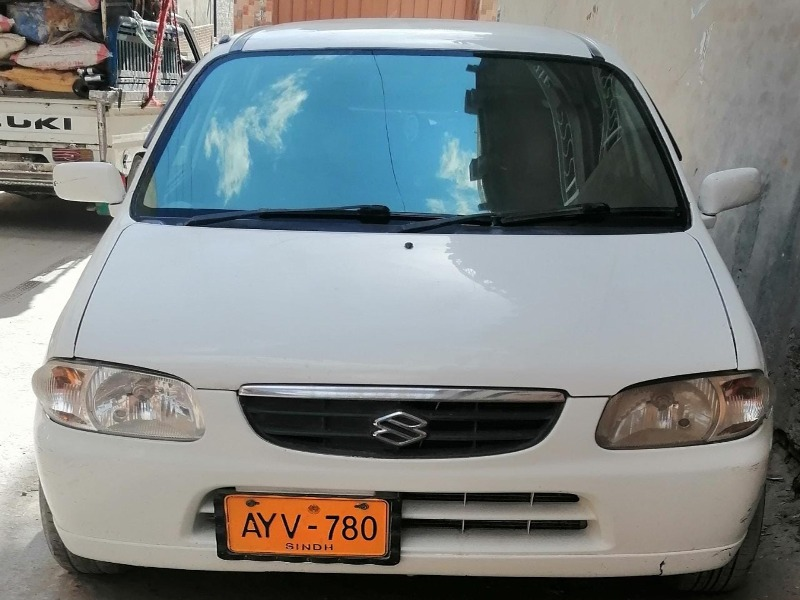License Plate: (216, 488, 405, 567)
